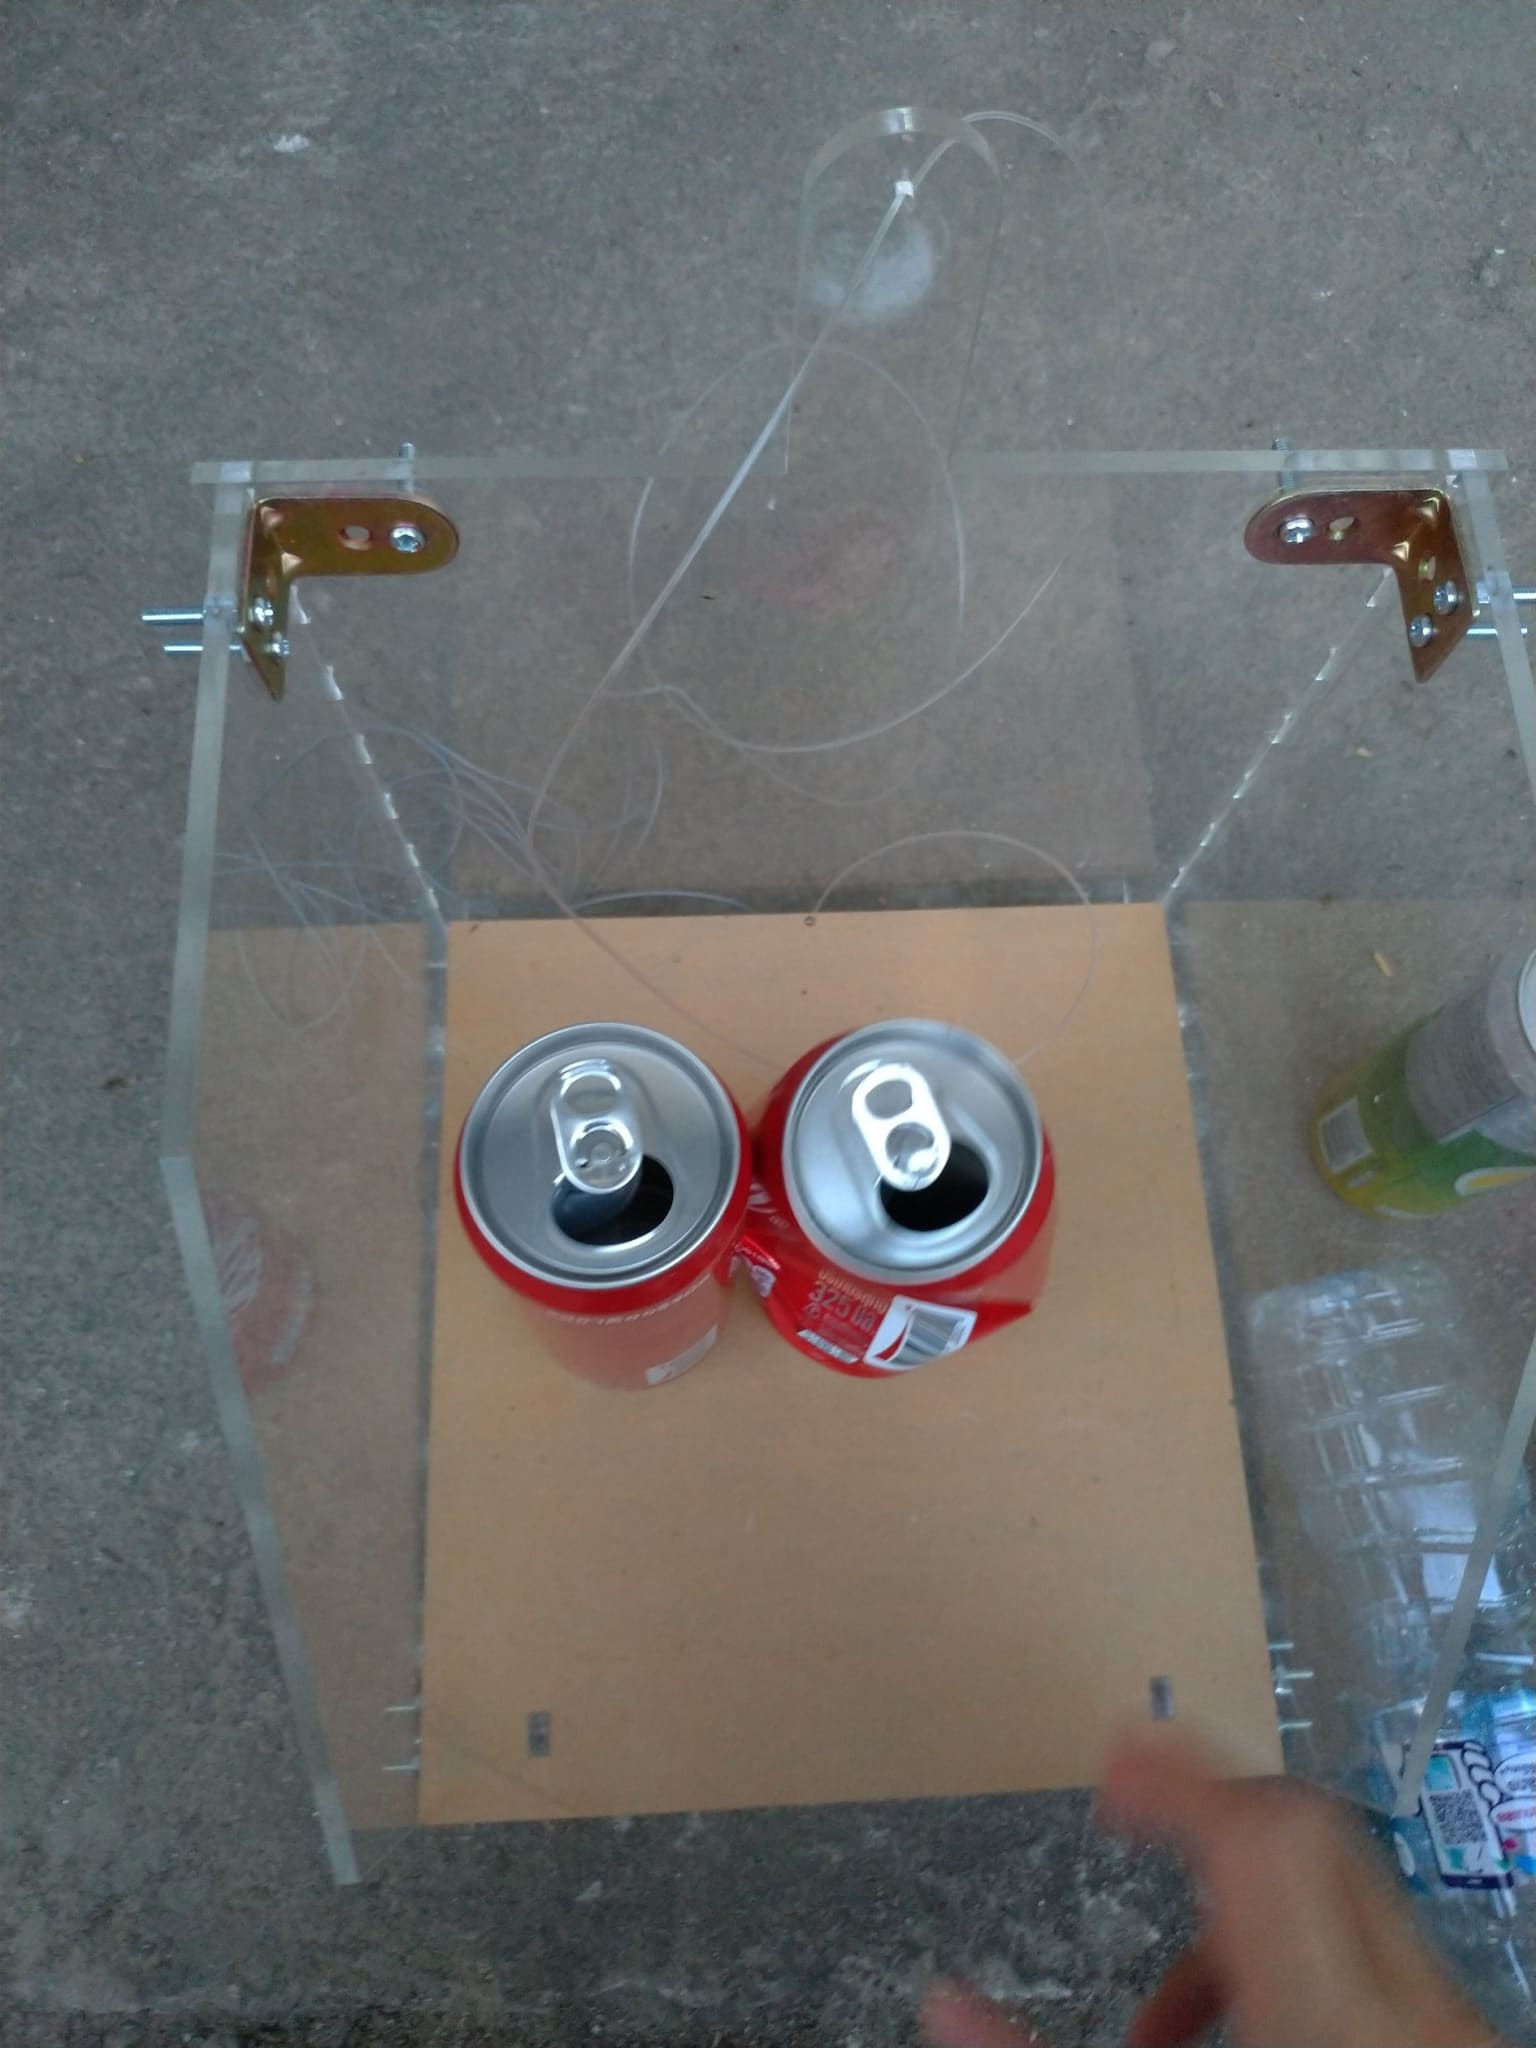AlCan: (741, 1026, 1055, 1390), (457, 1026, 744, 1397), (1313, 932, 1536, 1222)
PlasticBottle: (1241, 1264, 1536, 2000)
